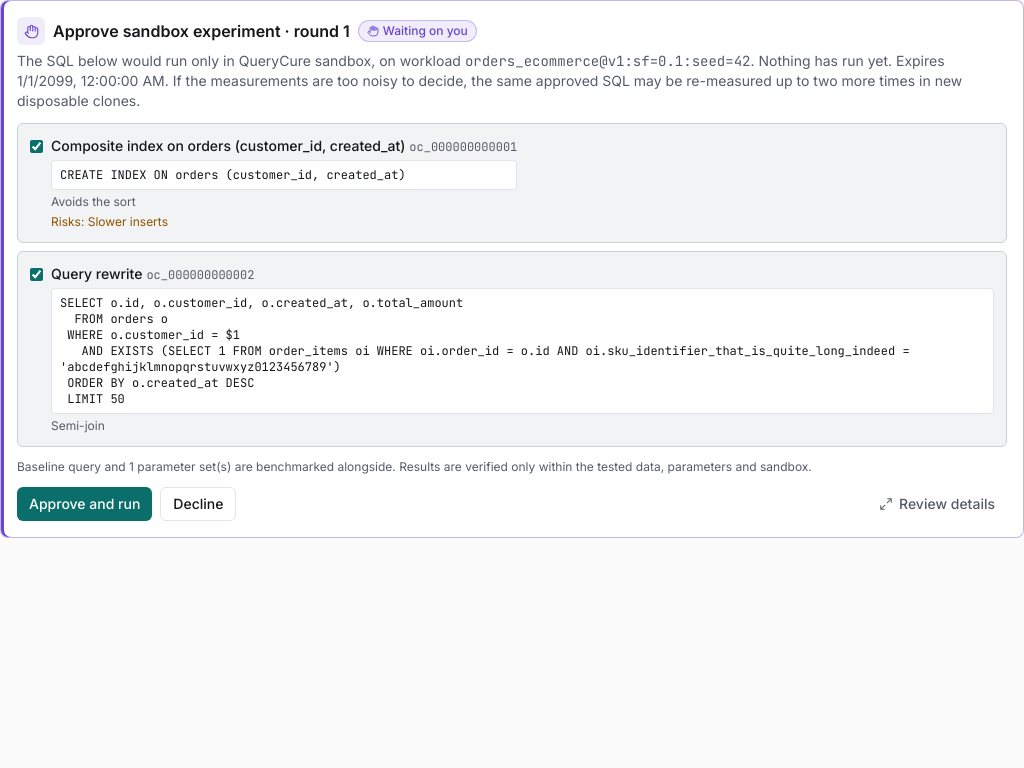
Test: selection is shared with the card; partial approval sends the chosen ids and shows the recorded result
What coordinates should you click on to do the following:
click the checkbox named "Include oc_000000000001"
I would click on:
 (36, 146)
Its box is [30, 140, 43, 153].
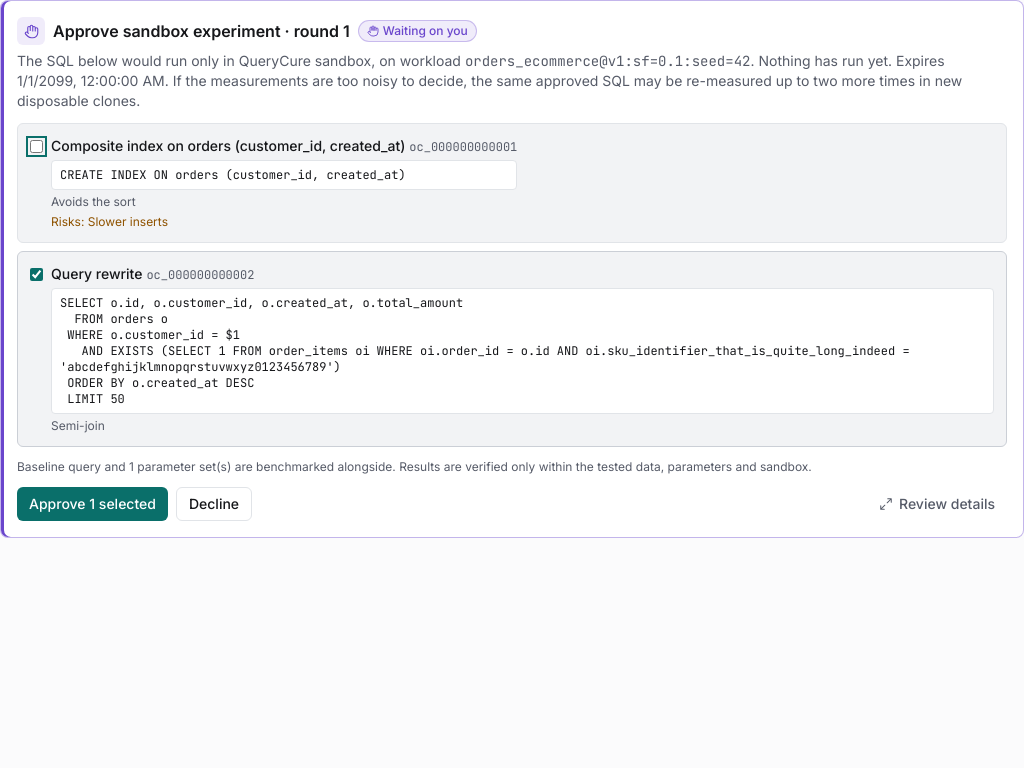
What coordinates should you click on to do the following:
click the button "Review details"
I would click on:
 (937, 504)
Its box is [867, 487, 1007, 521].
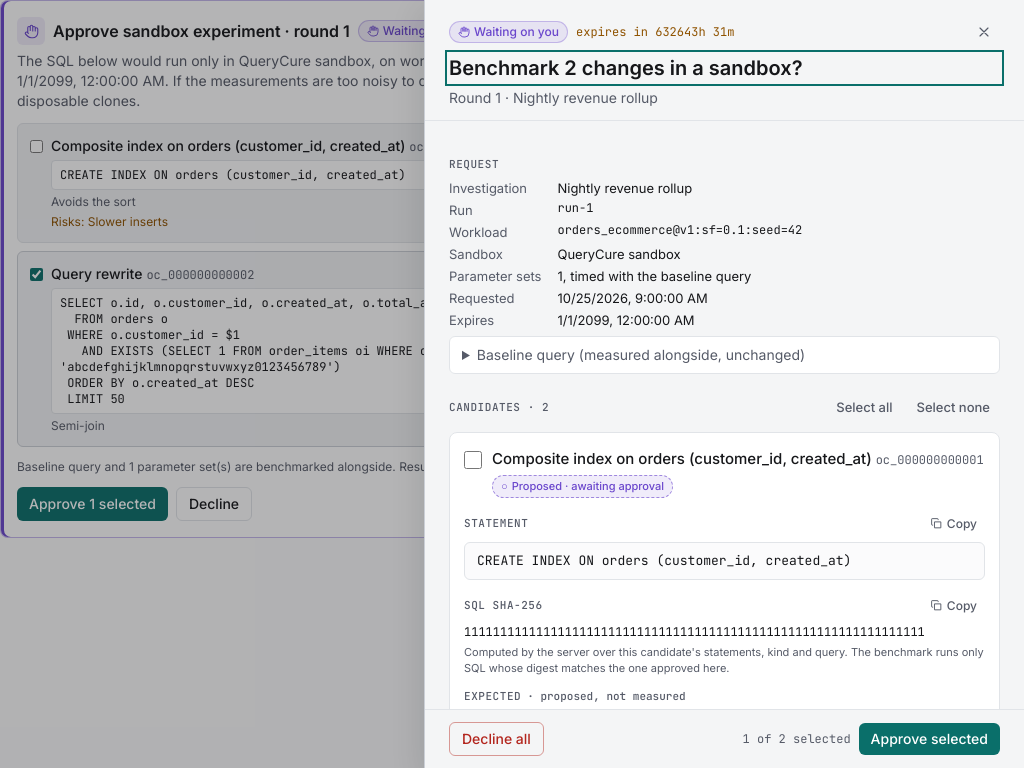
Check: the text "1 of 2 selected" is shown, box [743, 731, 851, 747]
Check: the checkbox named "oc_000000000001" is not checked, box [464, 451, 482, 469]
What coordinates should you click on to do the following:
click the button "Approve selected"
I would click on:
 (929, 739)
Its box is [859, 723, 1000, 755].
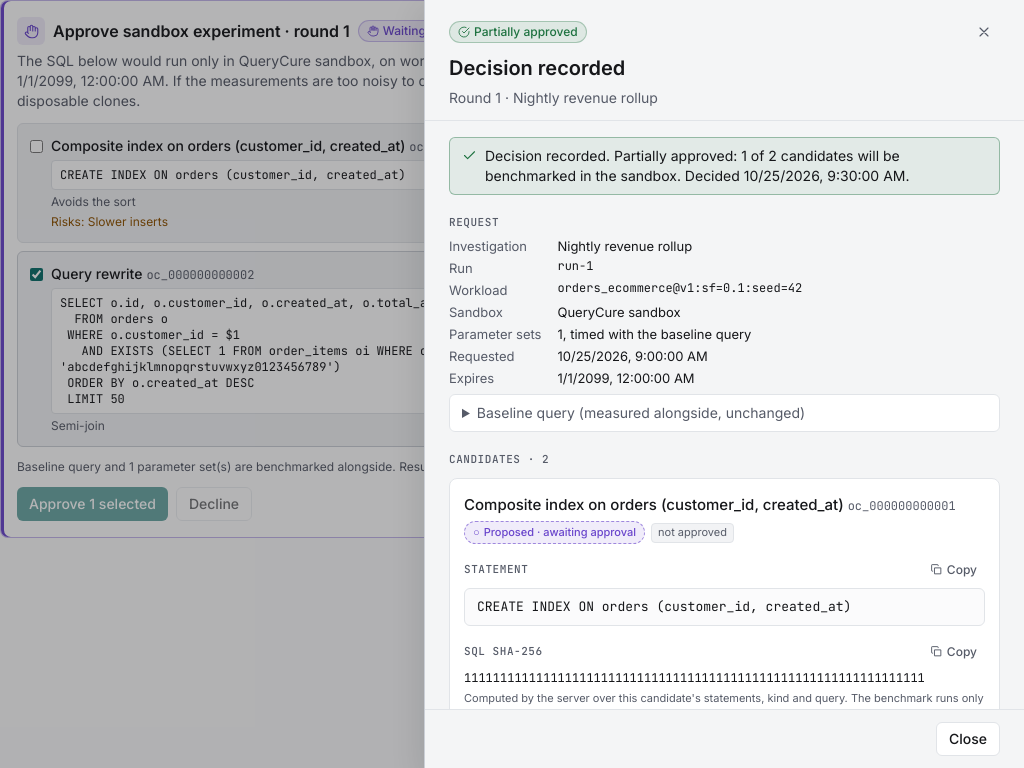
Check: the heading "Decision recorded" is shown, box [449, 56, 625, 80]
Check: the text "Partially approved: 1 of 2 candidates will be benchmarked" is shown, box [485, 147, 900, 184]
Check: the text "not approved" is shown once, box [651, 523, 734, 543]
